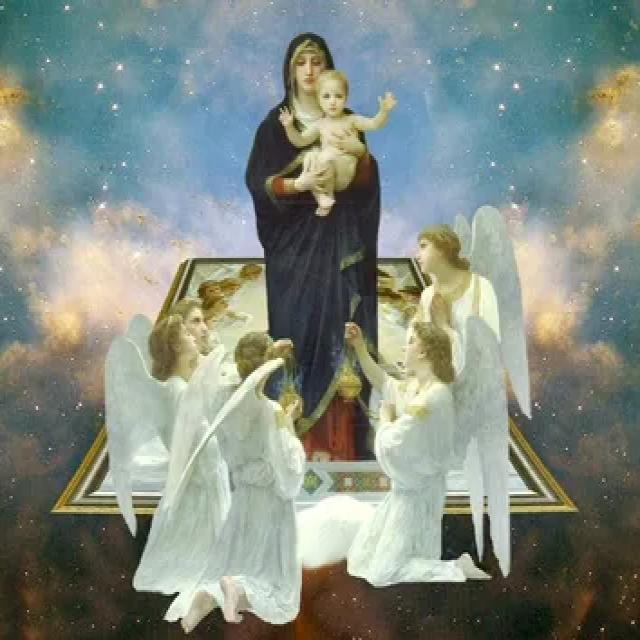mother of god: (236, 25, 398, 449)
